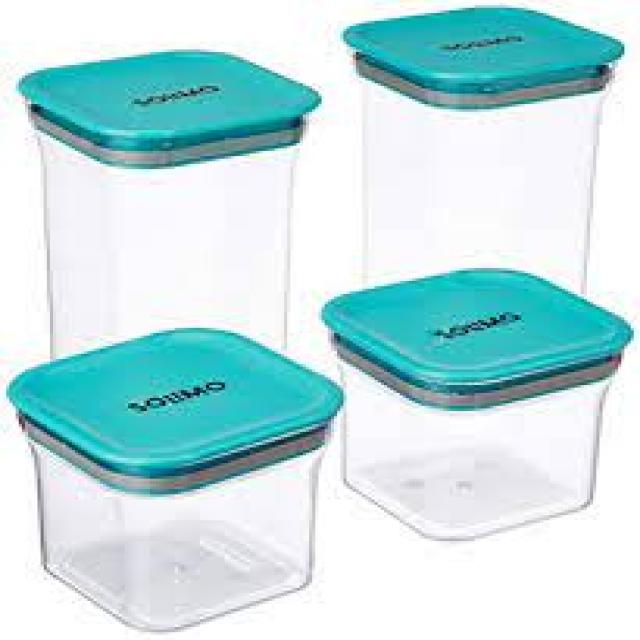hop_nhua: (9, 330, 343, 632), (19, 52, 323, 355), (325, 271, 634, 541), (351, 8, 624, 294)
